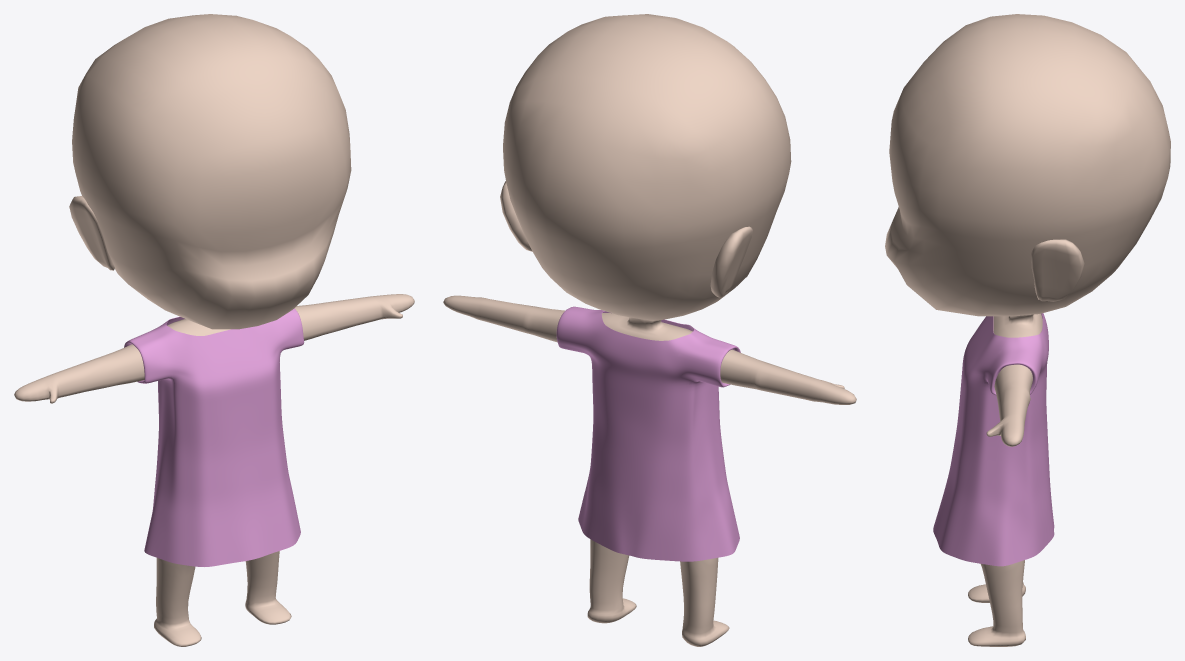
File: Laurel.fbx
3 renders of one model, left to right at view 1: azimuth 30°, elevation 25°; view 2: azimuth 150°, elevation 25°; view 3: azimuth 270°, elevation 25°, orthographic. The views are drawn at different scales.
Visible parts, largest first — view 1: body, dress; view 2: body, dress; view 3: body, dress.
Part boxes in pixels (x1,y1,x2,y2): body: [14, 14, 414, 646]; dress: [124, 308, 304, 566]; body: [443, 14, 856, 646]; dress: [556, 306, 740, 561]; body: [885, 14, 1170, 646]; dress: [933, 313, 1054, 566].
Size of the model in its own units: 1.18 by 1.66 by 0.7315.
